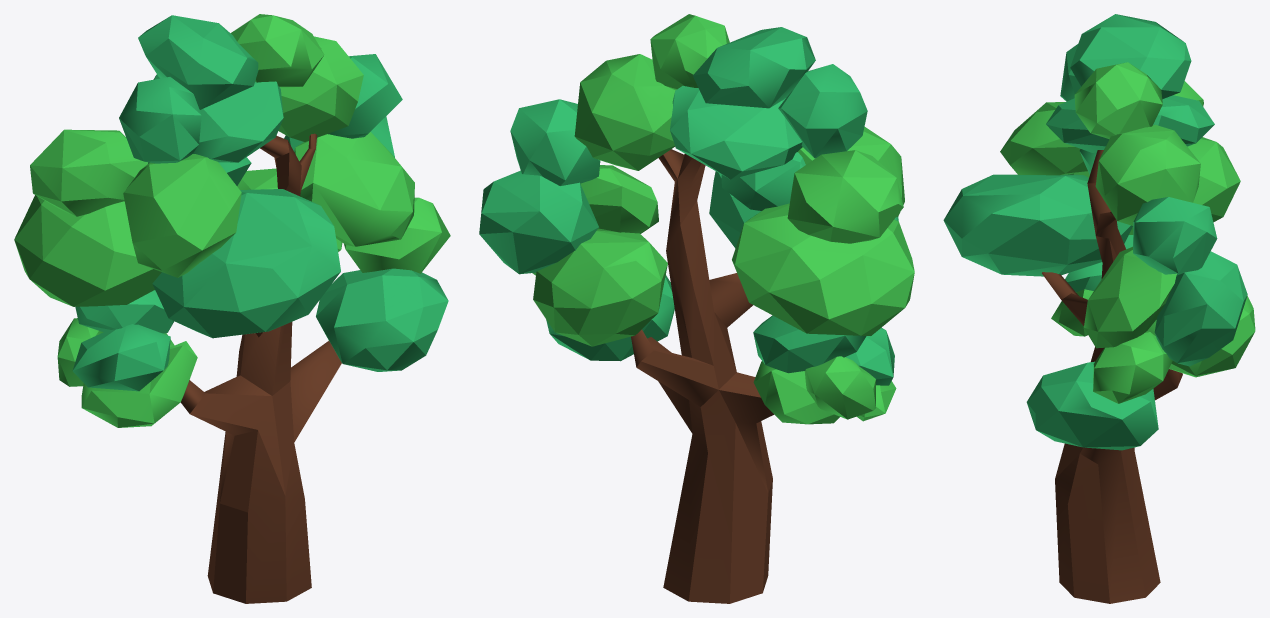
File: oaktree_scaled 0.02.fbx
3 views of the same model, side by side, from view 1: azimuth 30°, elevation 25°; view 2: azimuth 150°, elevation 25°; view 3: azimuth 270°, elevation 25° (orthographic). The views are drawn at different scales.
Visible parts, largest first — view 1: Oak; view 2: Oak; view 3: Oak.
Part boxes in pixels (x1,y1,x2,y2): Oak: (14, 14, 450, 603); Oak: (479, 14, 914, 603); Oak: (943, 14, 1255, 603).
Bounding box in the file's own units: 6.72 × 9.01 × 4.82.
